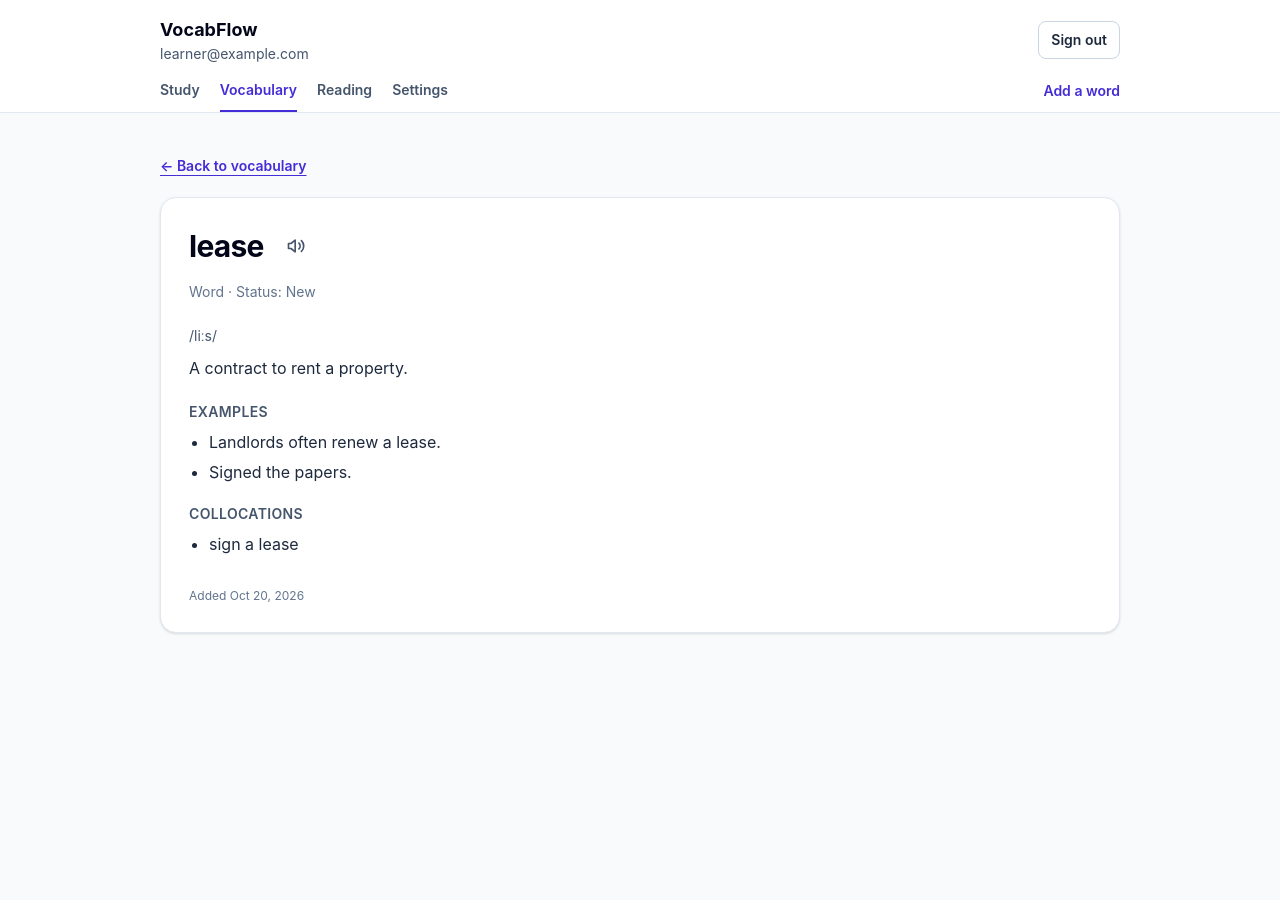
Test: a word in an example works too, and a capital that only starts the sentence is dropped
Step 1. Click the text "Signed" → (235,472), box [209, 462, 262, 482]
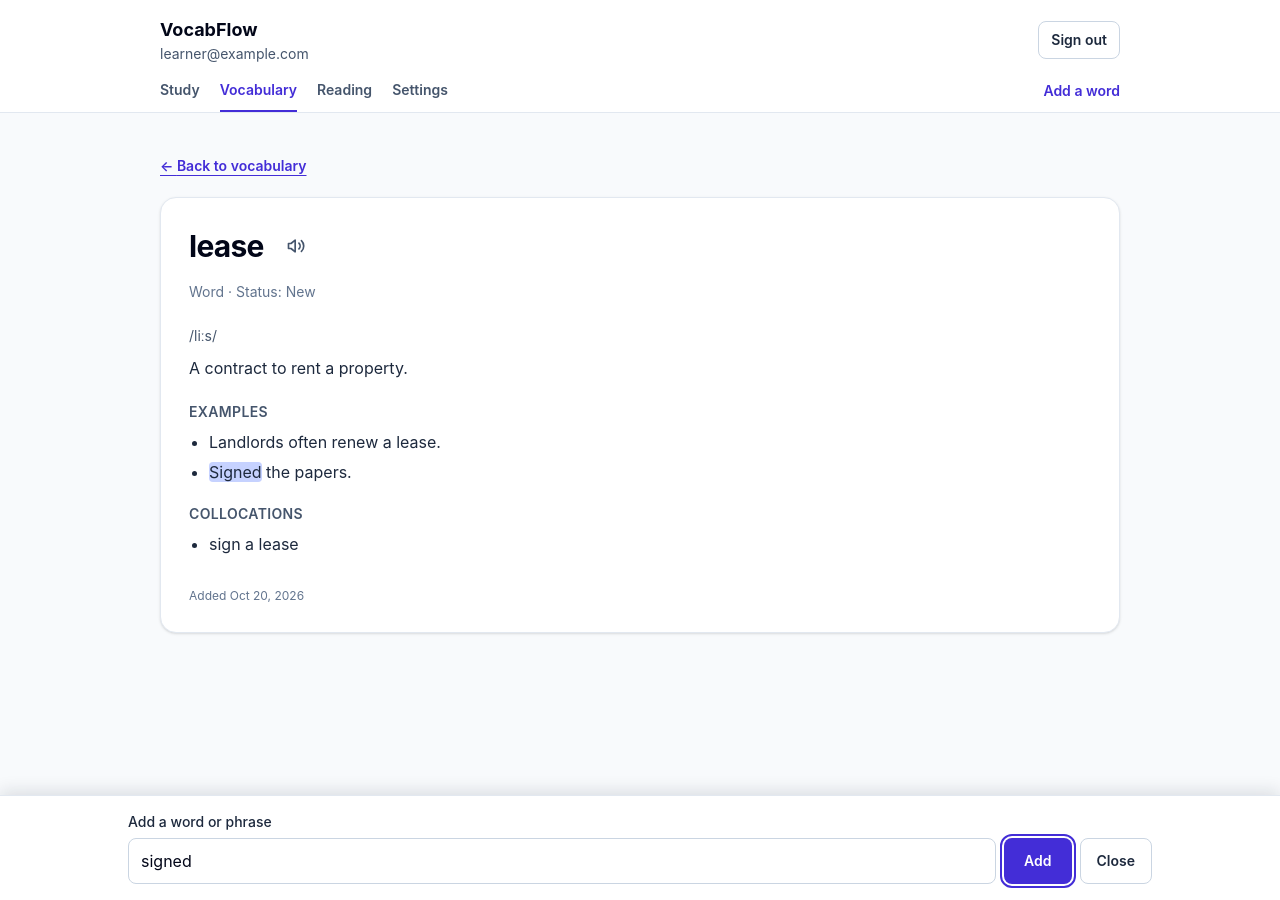
Expected: the field labelled "Add a word or phrase" holds "signed", [128, 838, 996, 884]
